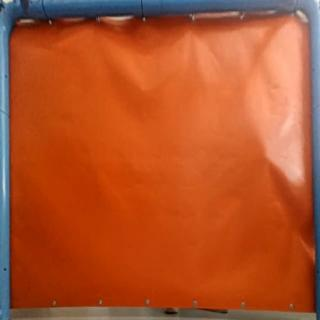Hit-hRxx: (257, 149, 273, 163)
